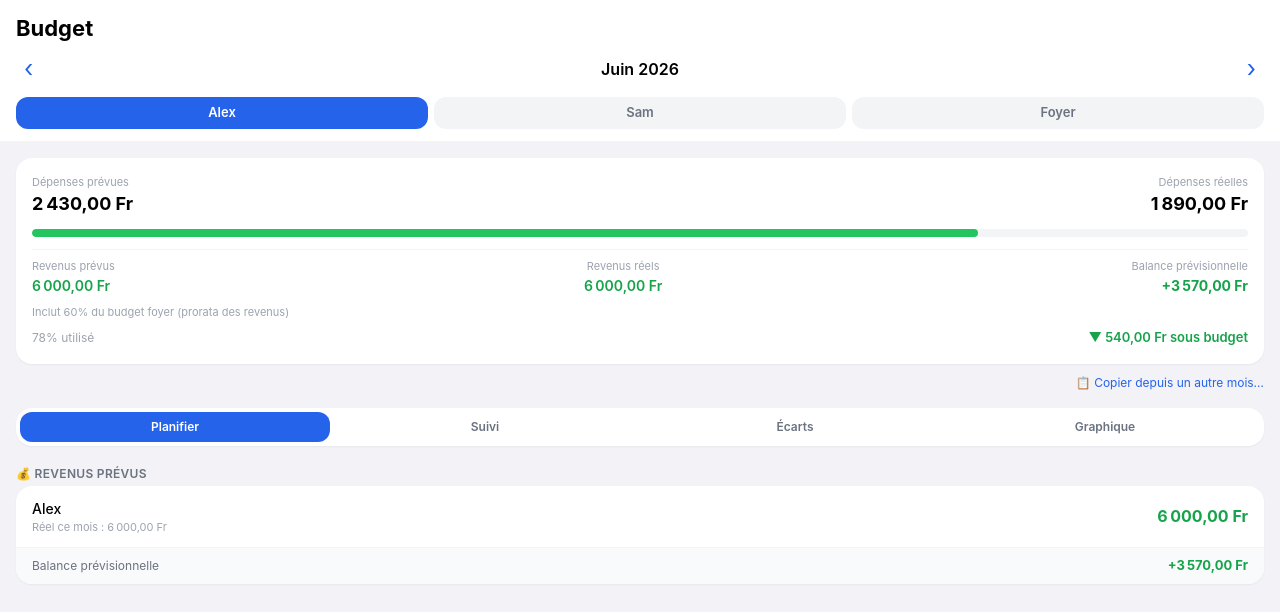
Scenario: Écran Budget — juin 2026 (mois courant) › onglet Foyer : prévu 2 800, réel 2 800 (pas de double comptage)
Click the button "Foyer" at [1058, 113], box [852,97,1264,128]
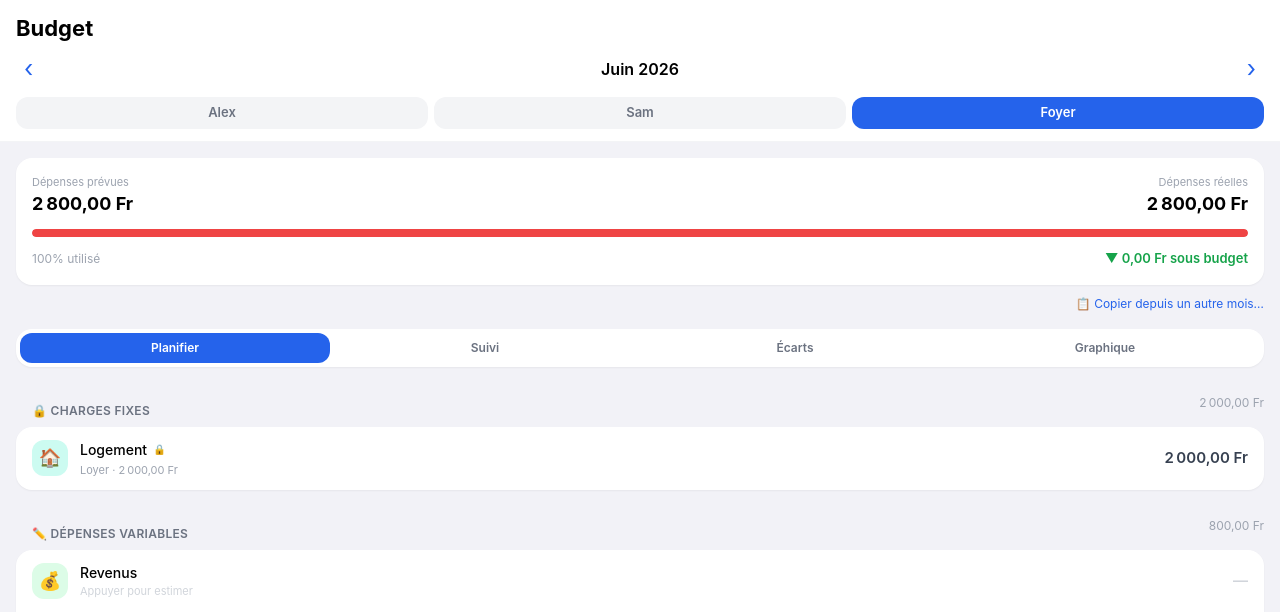
Expected: the text "2 800,00 Fr" is shown, [32,190,133,217]
Expected: the text "Inclut" is gone
